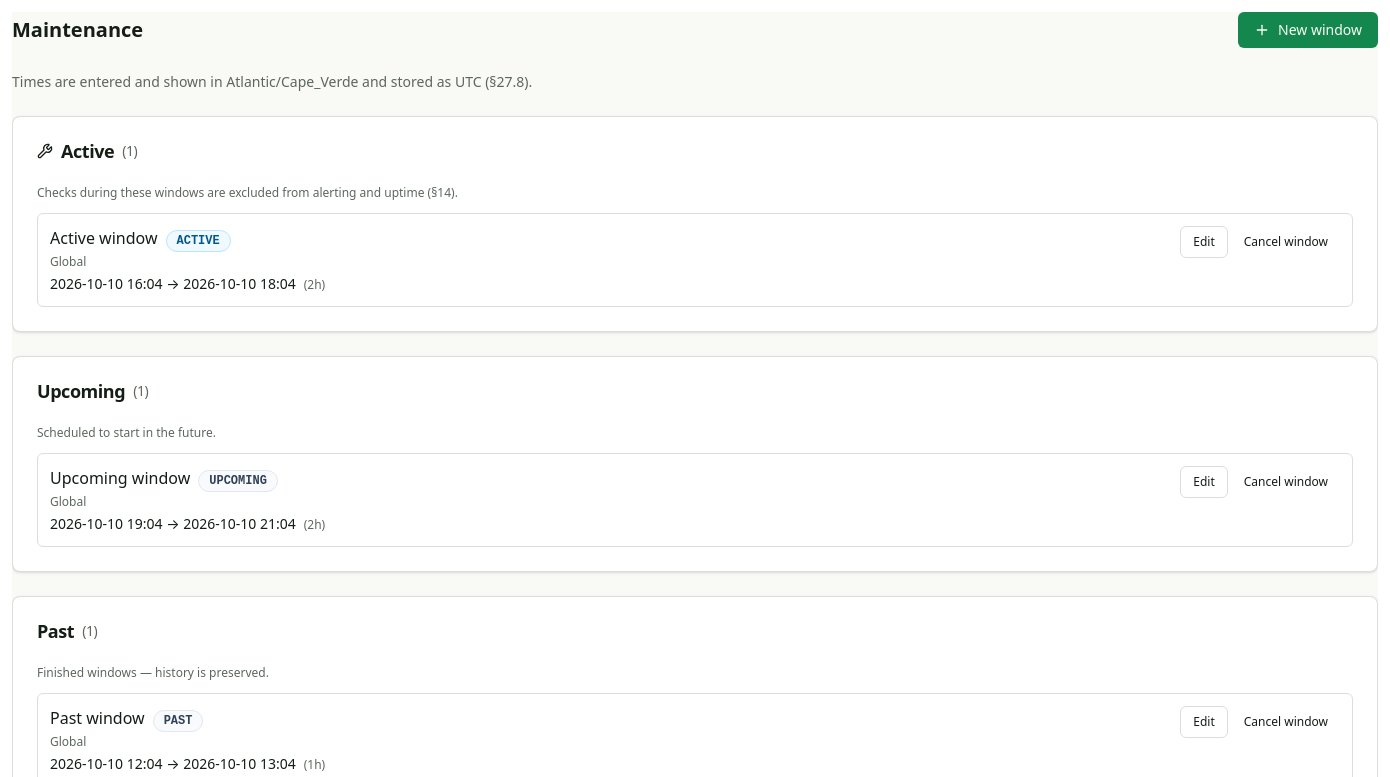
Test: MaintenancePage form (§14.2 + UTC persistence) › cancels a window only after the confirm step
The image size is (1390, 777).
Click the button "Cancel window" in the row of "Active window": (1286, 242) [1232, 226, 1340, 258]
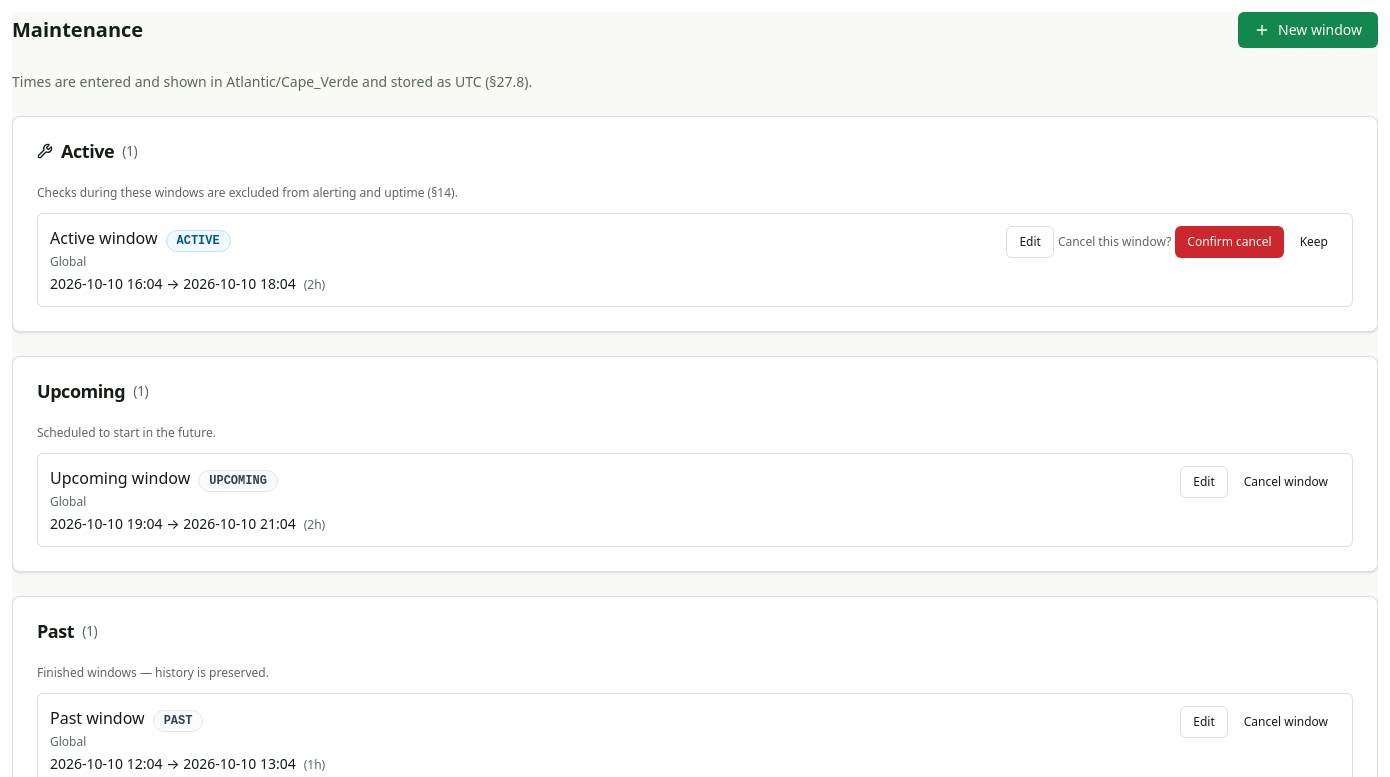
Click the button "Confirm cancel": (1229, 242) [1175, 226, 1284, 258]
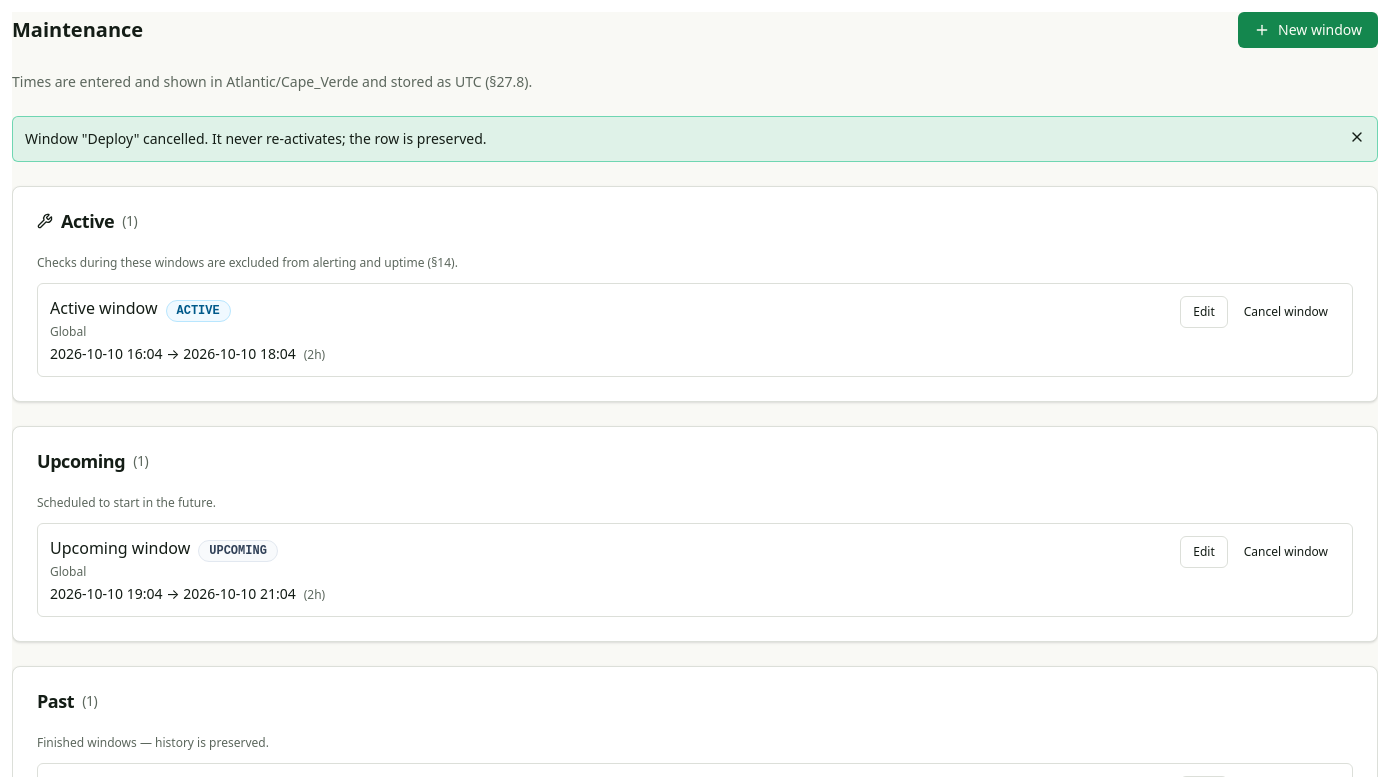
Expected: the message shows "never re-activates", [25, 129, 487, 148]
